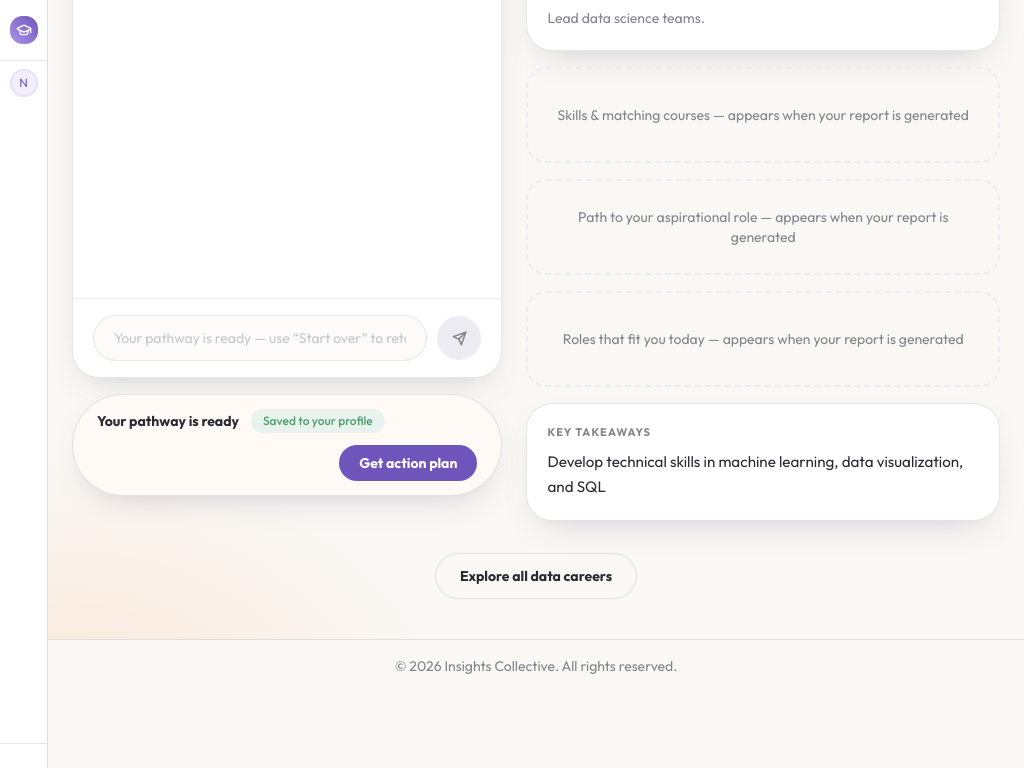
Test: CareerPathway view switch › sends "Get action plan" to the plan view instead of scrolling past the report
This screenshot has width=1024, height=768.
(page scrolled)
Click the button with test id "get-action-plan" at (408, 463), box [339, 445, 477, 481]
(page scrolled)
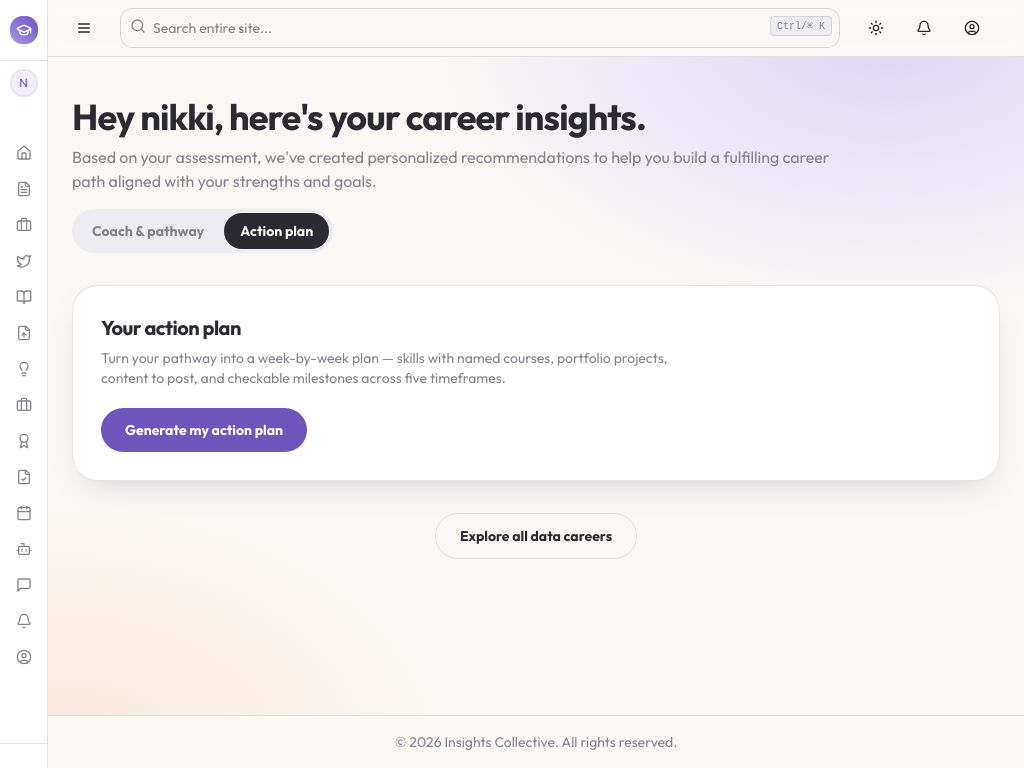
Now the element with test id "action-plan-section" is shown, box [72, 285, 1000, 481]
